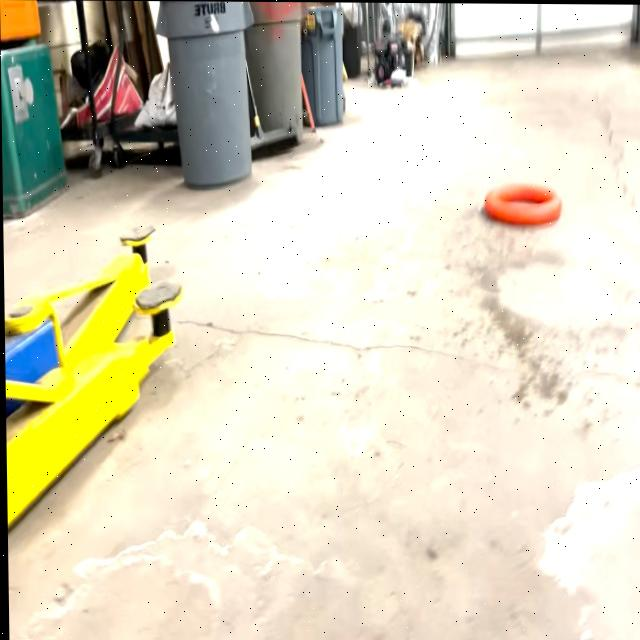note: (479, 172, 564, 225)
